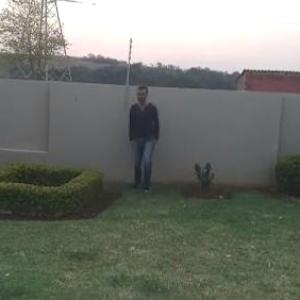follow: (128, 80, 163, 201)
